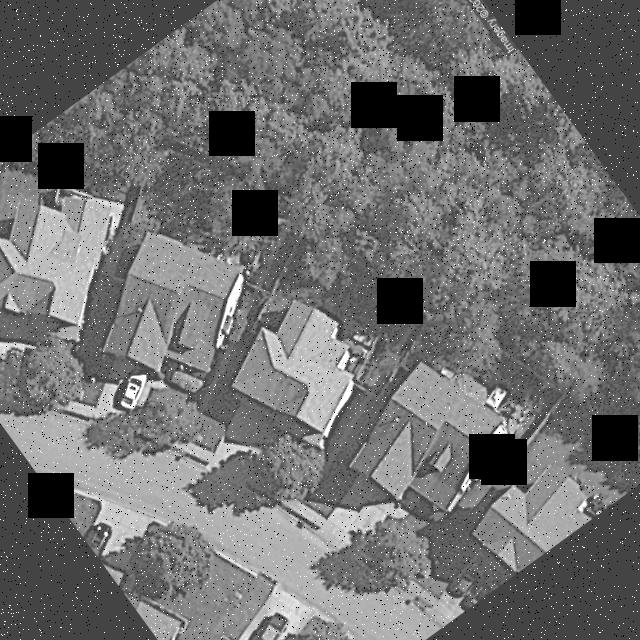Driveway: (209, 440, 253, 466)
House: (229, 293, 357, 442)
